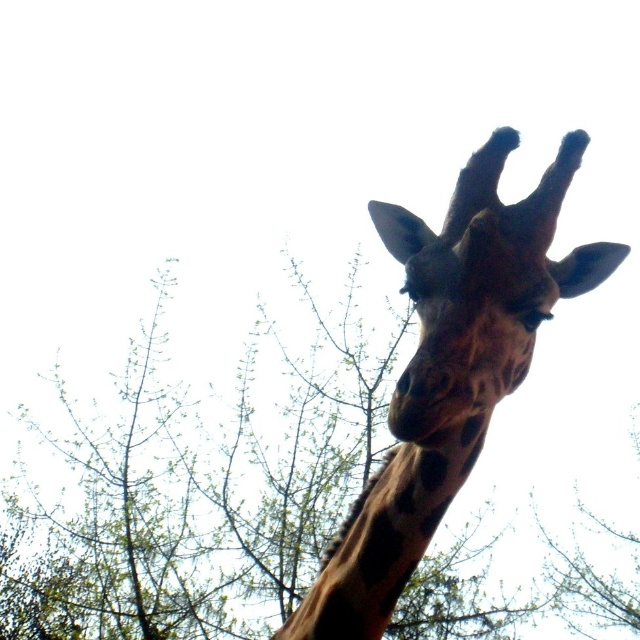Giraffe: (266, 125, 630, 640)
